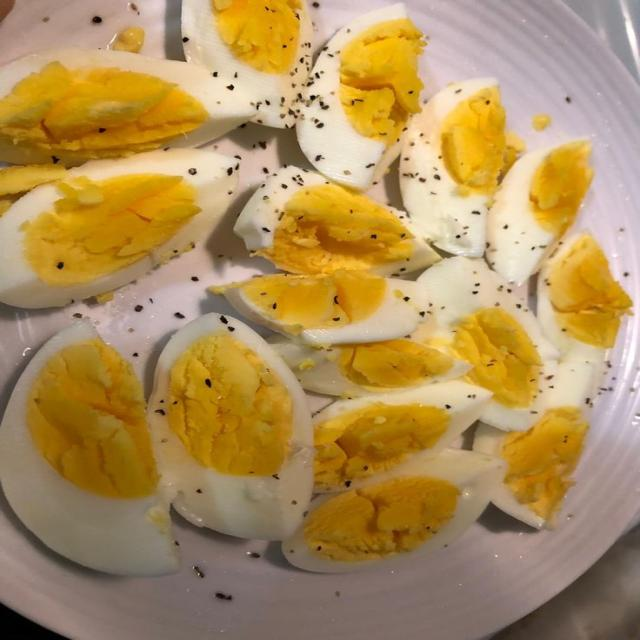eggs: (7, 24, 631, 574)
